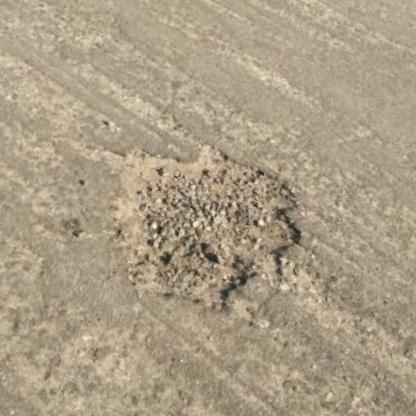pothole: (57, 108, 325, 341)
